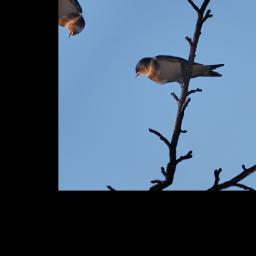Swallow: (129, 27, 229, 113)
